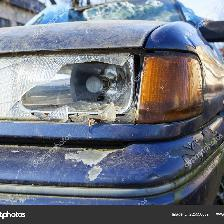broken_part: (34, 69, 113, 120)
